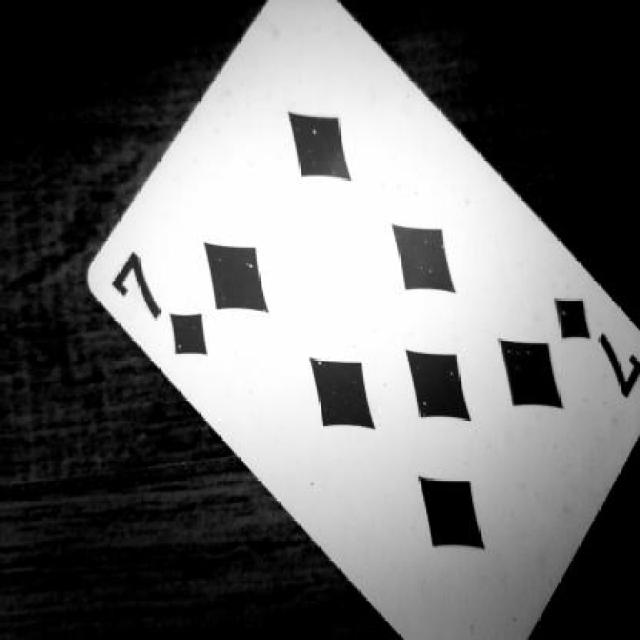7D: (96, 248, 224, 377), (531, 275, 640, 403)
